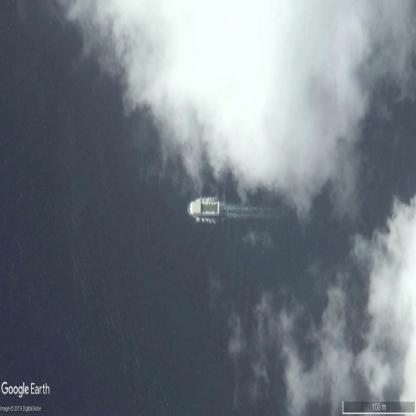ship: (188, 200, 219, 216)
